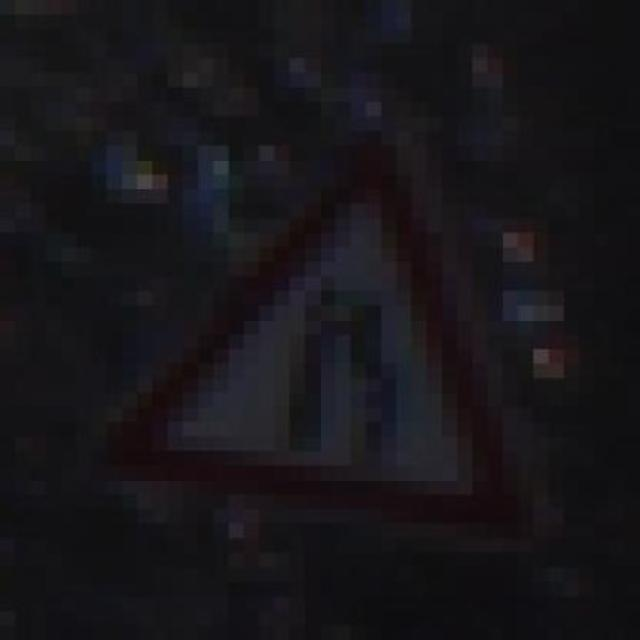-Road narrows on right: (106, 116, 519, 538)
